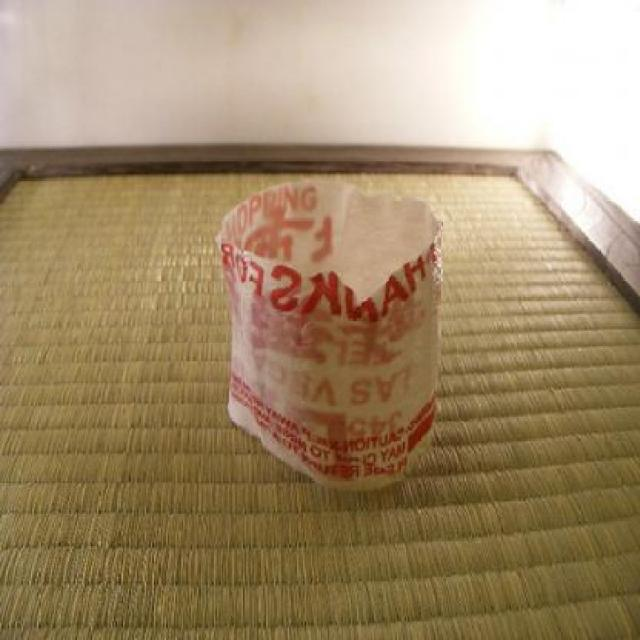plastic bag: (216, 180, 444, 485)
